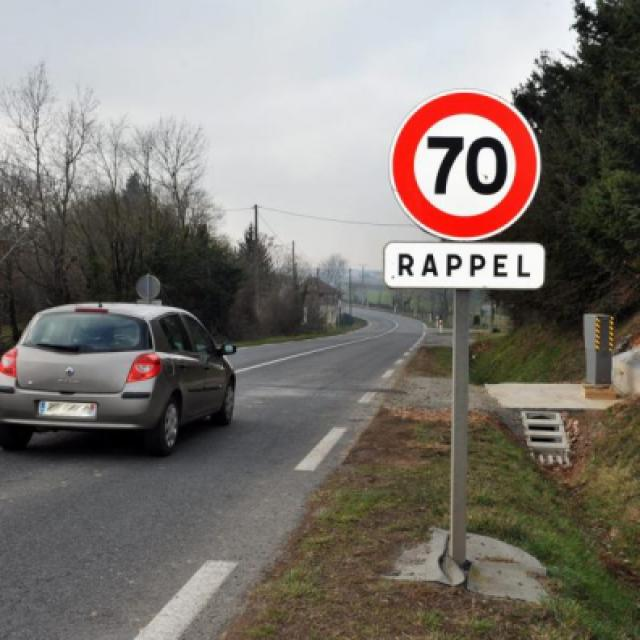speed_70: (390, 90, 543, 242)
